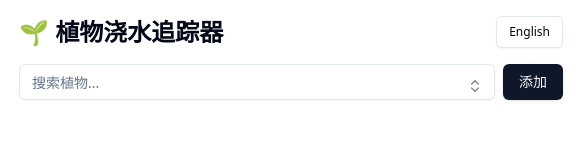
Test case: PlantTracker › Autocomplete functionality › selects suggestion on click
The image size is (580, 160).
Type "monstera" into the field with placeholder "搜索植物..." at (257, 82), box [19,64,495,100]
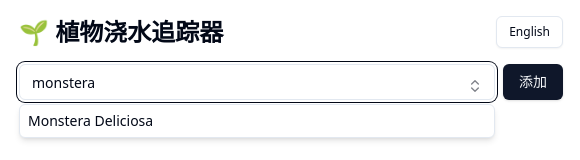
// Click the chevron to open dropdown
Click the button with test id "chevron" at (475, 86), box [463,74,487,98]
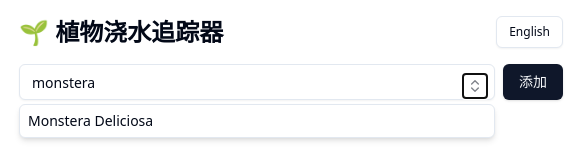
Click the option "Monstera Deliciosa" at (91, 120), box [28,111,153,130]
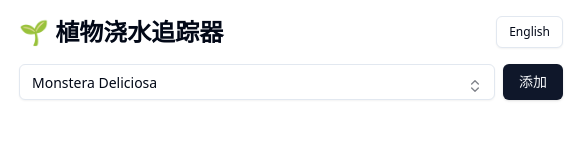
Now the field with placeholder "搜索植物..." holds "Monstera Deliciosa", box [19,64,495,100]
